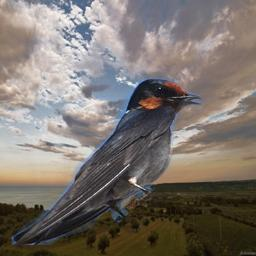Swallow: (11, 78, 202, 245)
